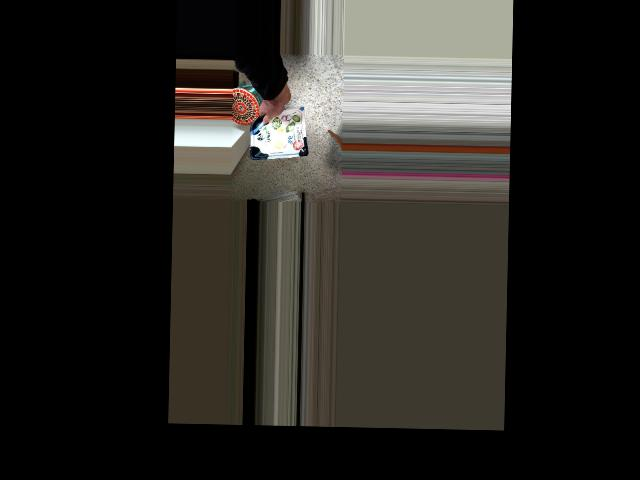cheese: (250, 88, 309, 148)
